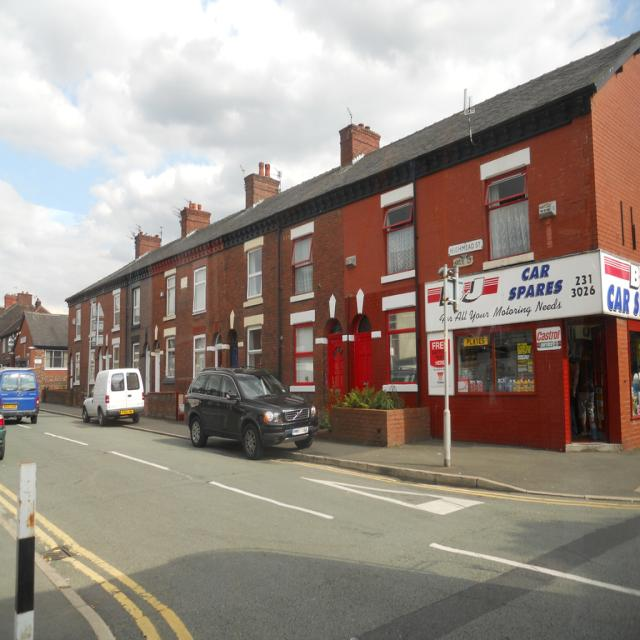car: (172, 362, 317, 459)
